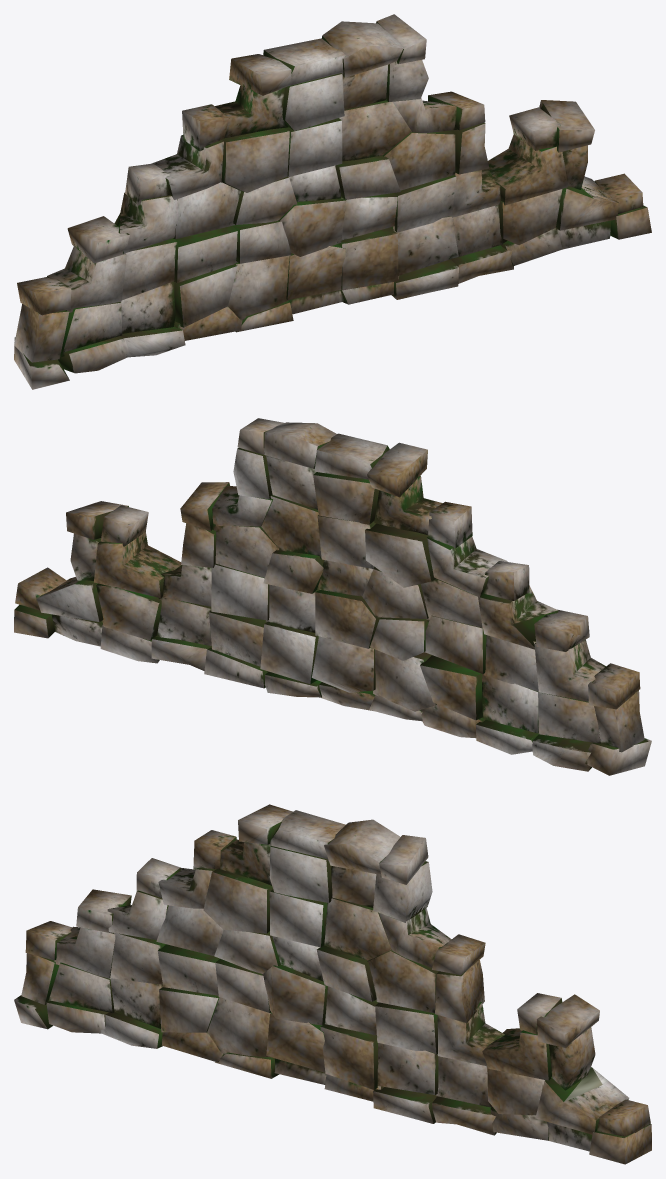
The model's file is Wall.fbx.
3 renders of one model, top to bottom at view 1: azimuth 30°, elevation 25°; view 2: azimuth 150°, elevation 25°; view 3: azimuth 330°, elevation 25°, orthographic.
Parts seen in each view (by area): view 1: Wall; view 2: Wall; view 3: Wall.
Part boxes in pixels (left/top/right/bottom): Wall: left=14, top=14, right=651, bottom=389; Wall: left=14, top=418, right=651, bottom=775; Wall: left=14, top=804, right=651, bottom=1164.
Bounding box in the file's own units: 409 × 170 × 41.26.
1 material, 1 textured.
